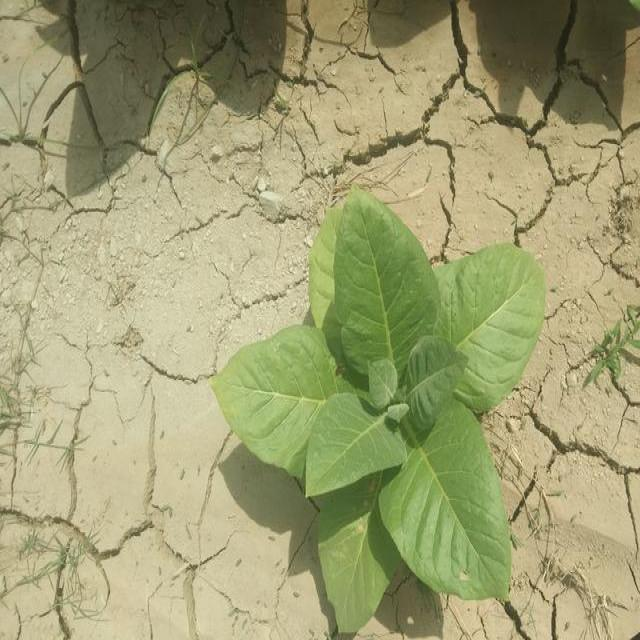crop: (224, 204, 552, 636)
